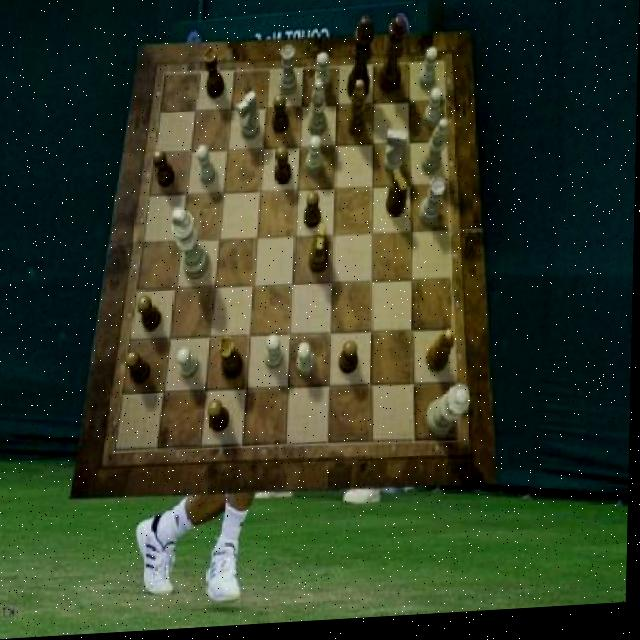bishop: (427, 334, 457, 379), (347, 83, 367, 142)
black-bishop: (346, 21, 375, 106)
black-king: (309, 226, 330, 278), (387, 173, 409, 222)
black-knight: (152, 151, 176, 191), (126, 351, 152, 386), (137, 297, 162, 333), (208, 403, 232, 436), (273, 97, 291, 138), (275, 149, 293, 189), (340, 344, 360, 379), (305, 194, 322, 232)
black-pawn: (376, 21, 407, 101)
black-queen: (203, 49, 227, 103), (220, 339, 245, 383)
black-rook: (421, 124, 448, 179), (309, 82, 329, 140)
white-bishop: (173, 210, 211, 284)
white-king: (237, 94, 261, 144), (384, 133, 408, 180)
white-knight: (419, 53, 439, 96), (197, 148, 217, 189), (178, 349, 201, 384), (266, 336, 286, 373), (425, 93, 443, 134), (297, 345, 317, 381), (314, 55, 331, 95), (306, 140, 323, 179)
white-pawn: (427, 388, 473, 443)
white-queen: (419, 182, 445, 229), (279, 48, 297, 99)
